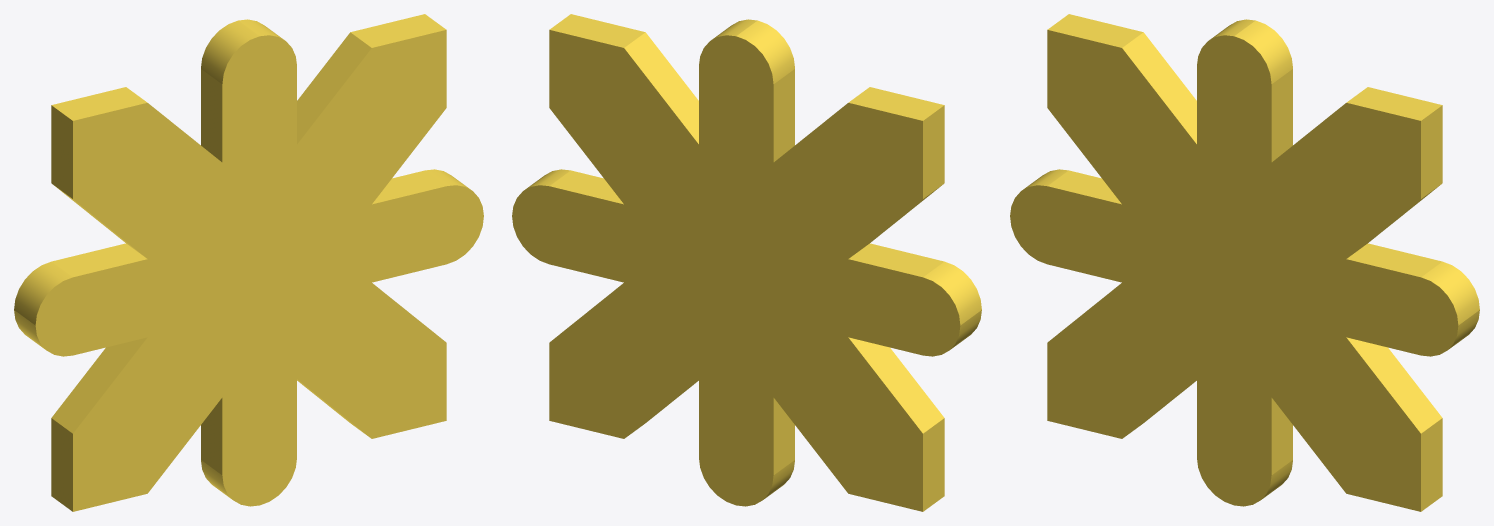
The model's file is Collectable.fbx.
3 views of the same model, side by side, from view 1: azimuth 30°, elevation 25°; view 2: azimuth 150°, elevation 25°; view 3: azimuth 330°, elevation 25° (orthographic).
Parts seen in each view (by area): view 1: generated; view 2: generated; view 3: generated.
Boxes of the visible parts, x1,y1,x2,y2 form: generated: (14, 14, 483, 511); generated: (512, 14, 981, 511); generated: (1010, 14, 1479, 511).
Bounding box in the file's own units: 120 × 120 × 10.
